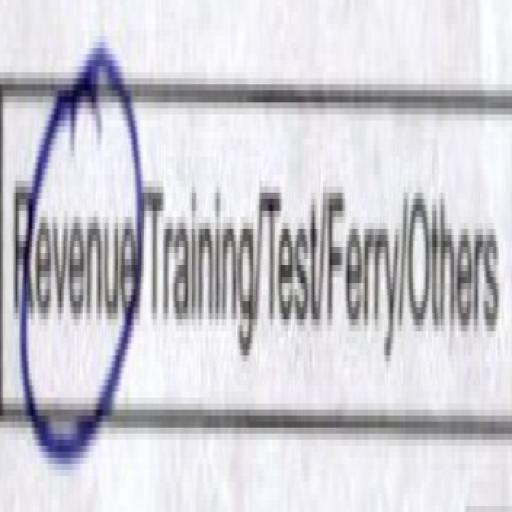check: (3, 2, 143, 512)
